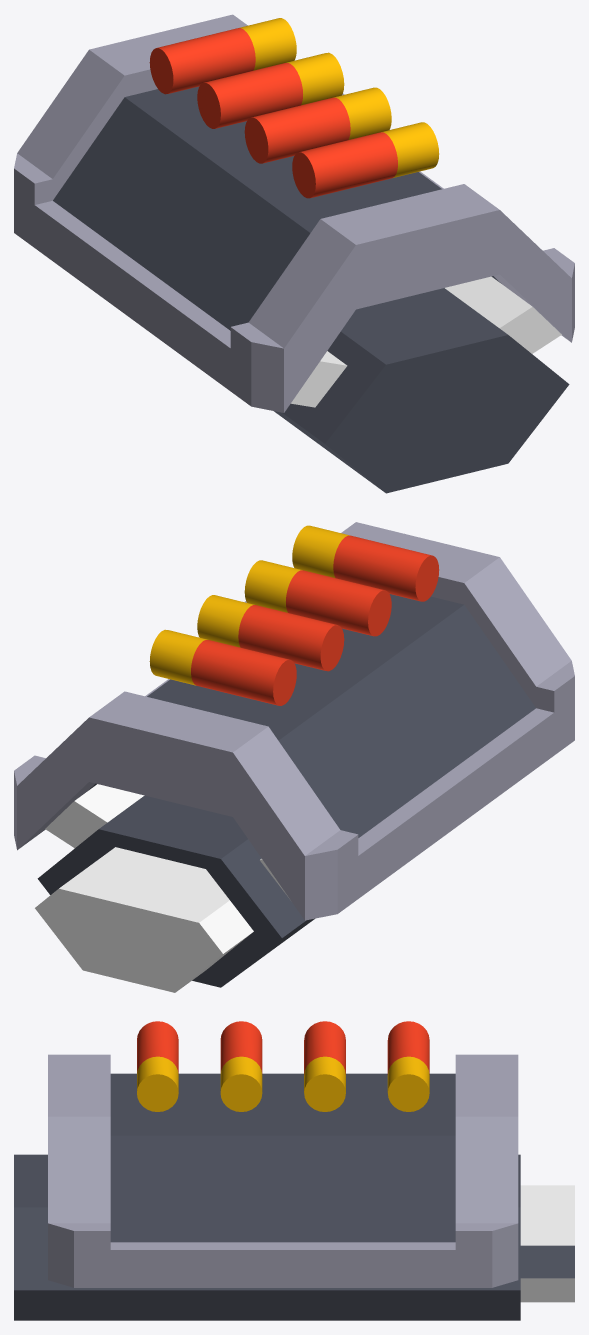
The model's file is LoftAmmoCrate.fbx.
The picture shows the model from 3 angles, top to bottom: view 1: azimuth 30°, elevation 25°; view 2: azimuth 150°, elevation 25°; view 3: azimuth 270°, elevation 25°; orthographic projection. The views are drawn at different scales.
Parts seen in each view (by area): view 1: roof_window_0, detail_engine_21, cylinder_full_18, cylinder_full_16, cylinder_full_9, cylinder_full_14, cylinder_full_19, cylinder_full_17, cylinder_full_13, cylinder_full_15; view 2: roof_window_0, detail_engine_21, cylinder_full_9, cylinder_full_18, cylinder_full_14, cylinder_full_16, cylinder_full_13, cylinder_full_19, cylinder_full_15, cylinder_full_17; view 3: roof_window_0, detail_engine_21, cylinder_full_17, cylinder_full_13, cylinder_full_15, cylinder_full_19, cylinder_full_9, cylinder_full_16, cylinder_full_14, cylinder_full_18.
Part boxes in pixels (<box>): roof_window_0: <box>14,14,574,412</box>; detail_engine_21: <box>274,276,569,493</box>; cylinder_full_18: <box>292,132,397,198</box>; cylinder_full_16: <box>244,97,350,163</box>; cylinder_full_9: <box>149,28,255,94</box>; cylinder_full_14: <box>197,63,302,128</box>; cylinder_full_19: <box>381,122,439,177</box>; cylinder_full_17: <box>333,87,391,139</box>; cylinder_full_13: <box>239,18,296,70</box>; cylinder_full_15: <box>286,52,344,105</box>; roof_window_0: <box>14,522,574,920</box>; detail_engine_21: <box>35,784,314,992</box>; cylinder_full_9: <box>191,640,296,705</box>; cylinder_full_18: <box>333,535,439,601</box>; cylinder_full_14: <box>238,605,344,671</box>; cylinder_full_16: <box>286,570,391,636</box>; cylinder_full_13: <box>149,629,207,685</box>; cylinder_full_19: <box>292,525,349,577</box>; cylinder_full_15: <box>197,595,254,647</box>; cylinder_full_17: <box>244,560,302,612</box>; roof_window_0: <box>48,1054,518,1287</box>; detail_engine_21: <box>14,1154,574,1320</box>; cylinder_full_17: <box>220,1056,262,1111</box>; cylinder_full_13: <box>387,1056,429,1111</box>; cylinder_full_15: <box>304,1056,345,1111</box>; cylinder_full_19: <box>137,1056,178,1111</box>; cylinder_full_9: <box>387,1021,429,1074</box>; cylinder_full_16: <box>220,1021,262,1073</box>; cylinder_full_14: <box>304,1021,345,1074</box>; cylinder_full_18: <box>137,1021,178,1073</box>.
Size of the model in its own units: 7.88 by 6.51 by 13.41.
